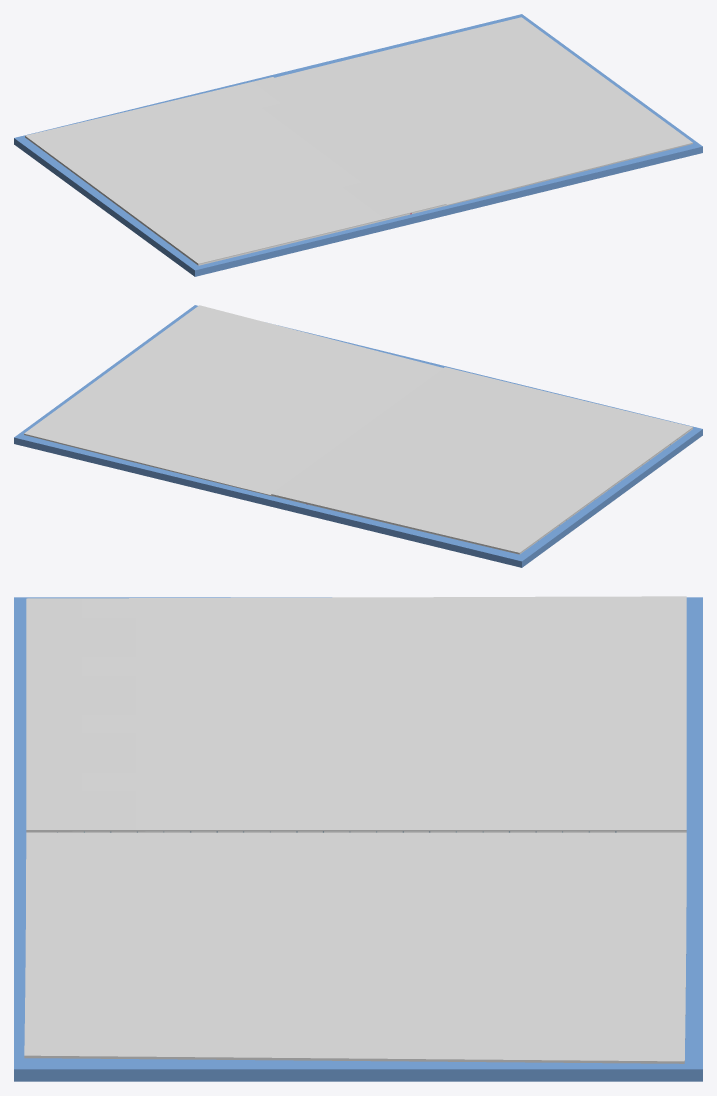
Rendered from book-final5.fbx.
The picture shows the model from 3 angles, top to bottom: view 1: azimuth 30°, elevation 25°; view 2: azimuth 150°, elevation 25°; view 3: azimuth 270°, elevation 25°; orthographic projection. The views are drawn at different scales.
Parts seen in each view (by area): view 1: flip-page-reset, page-right, cover, flip-left; view 2: page-right, flip-page-reset, cover, flip-left; view 3: flip-page-reset, page-right, cover, flip-left.
Part boxes in pixels (x1,y1,x2,y2): flip-page-reset: (25,77,446,264); page-right: (275,17,692,205); cover: (14,14,702,276); flip-left: (25,137,446,265); page-right: (24,305,442,496); flip-page-reset: (271,367,692,553); cover: (14,305,702,567); flip-left: (271,428,692,554); flip-page-reset: (26,596,686,831); page-right: (24,832,686,1063); cover: (14,597,702,1081); flip-left: (26,831,686,832).
Bounding box in the file's own units: 409 × 7.94 × 253.
